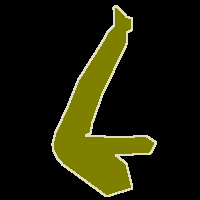tie: (52, 5, 156, 196)
